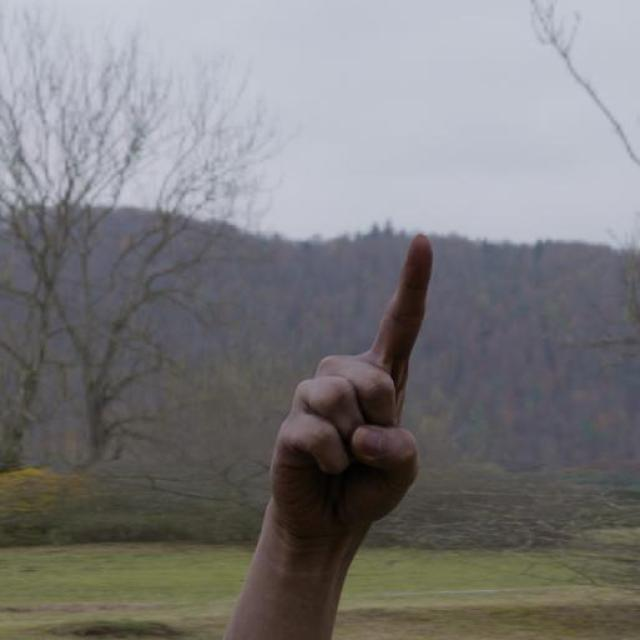Z: (264, 228, 437, 543)
